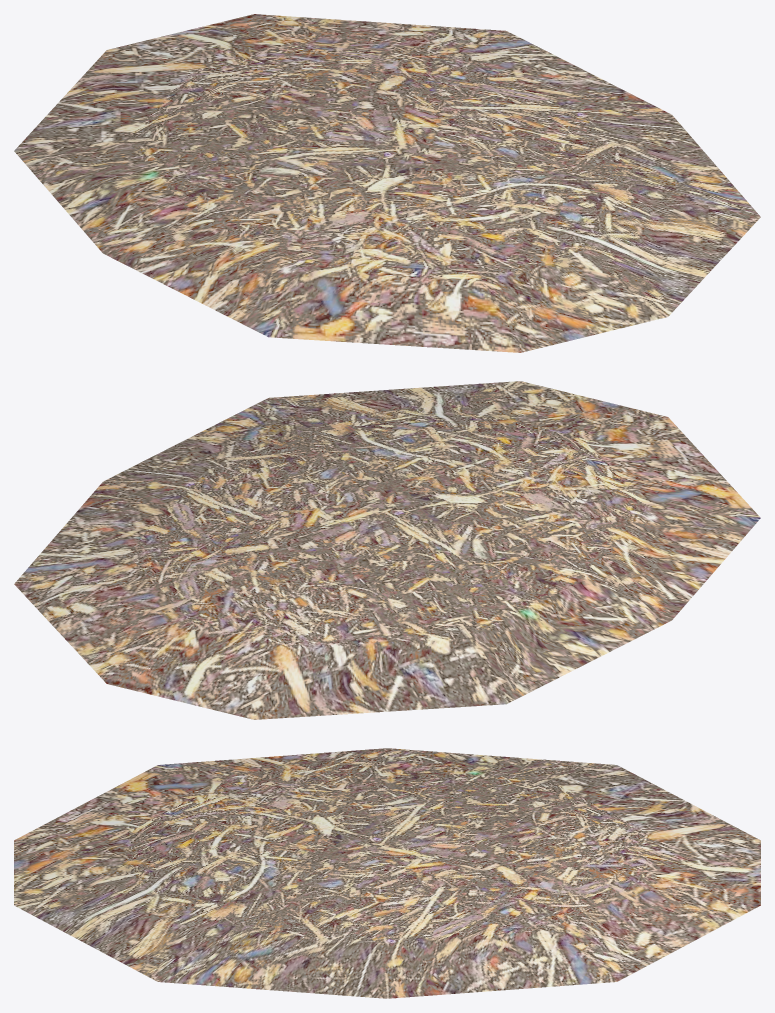
The model's file is SM_Haypile_01.fbx.
The picture shows the model from 3 angles, top to bottom: view 1: azimuth 30°, elevation 25°; view 2: azimuth 150°, elevation 25°; view 3: azimuth 270°, elevation 25°; orthographic projection. The views are drawn at different scales.
Parts seen in each view (by area): view 1: SM_Haypile_01; view 2: SM_Haypile_01; view 3: SM_Haypile_01.
Part boxes in pixels (box(x1,y1,x2,y2)): SM_Haypile_01: box(14, 14, 760, 352); SM_Haypile_01: box(14, 381, 760, 719); SM_Haypile_01: box(14, 748, 760, 998).
Bounding box in the file's own units: 3.46 × 0.2046 × 4.36.
